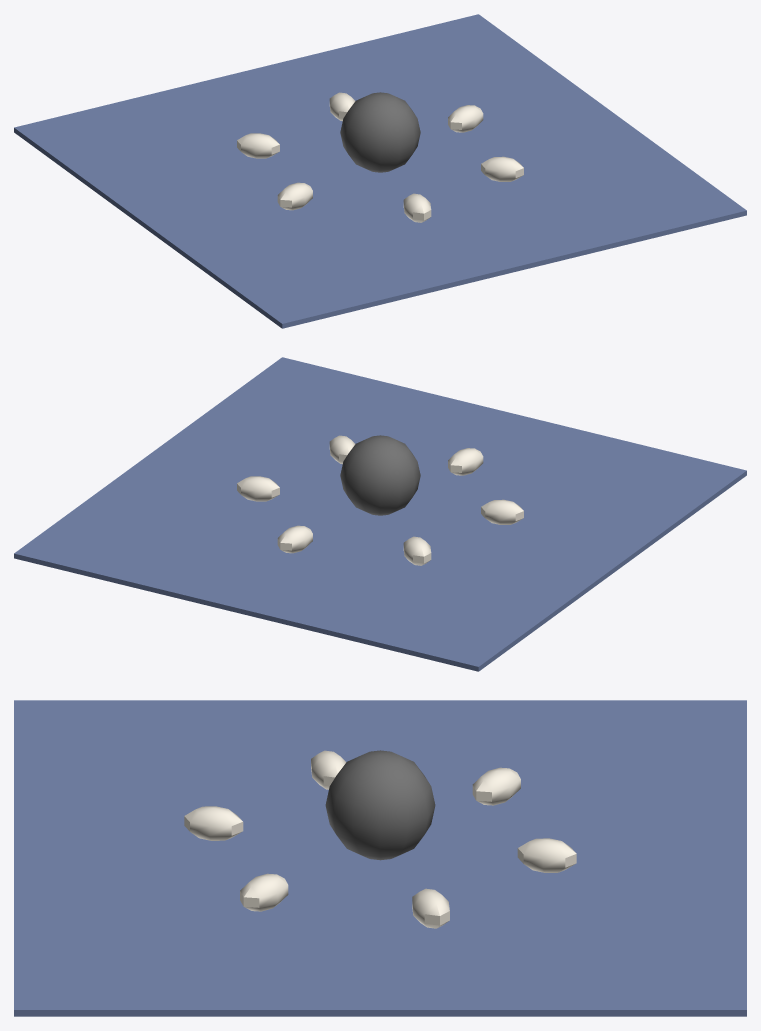
File: Bekelan_Set.fbx
3 views of the same model, one above another, from view 1: azimuth 30°, elevation 25°; view 2: azimuth 150°, elevation 25°; view 3: azimuth 270°, elevation 25° (orthographic). The views are drawn at different scales.
Visible parts, largest first — view 1: Bekelan_Set; view 2: Bekelan_Set; view 3: Bekelan_Set.
Boxes of the visible parts, left/top/right/bottom form: Bekelan_Set: left=14, top=14, right=746, bottom=328; Bekelan_Set: left=14, top=357, right=746, bottom=671; Bekelan_Set: left=14, top=700, right=746, bottom=1016.
Bounding box in the file's own units: 0.6 × 0.096 × 0.6.
